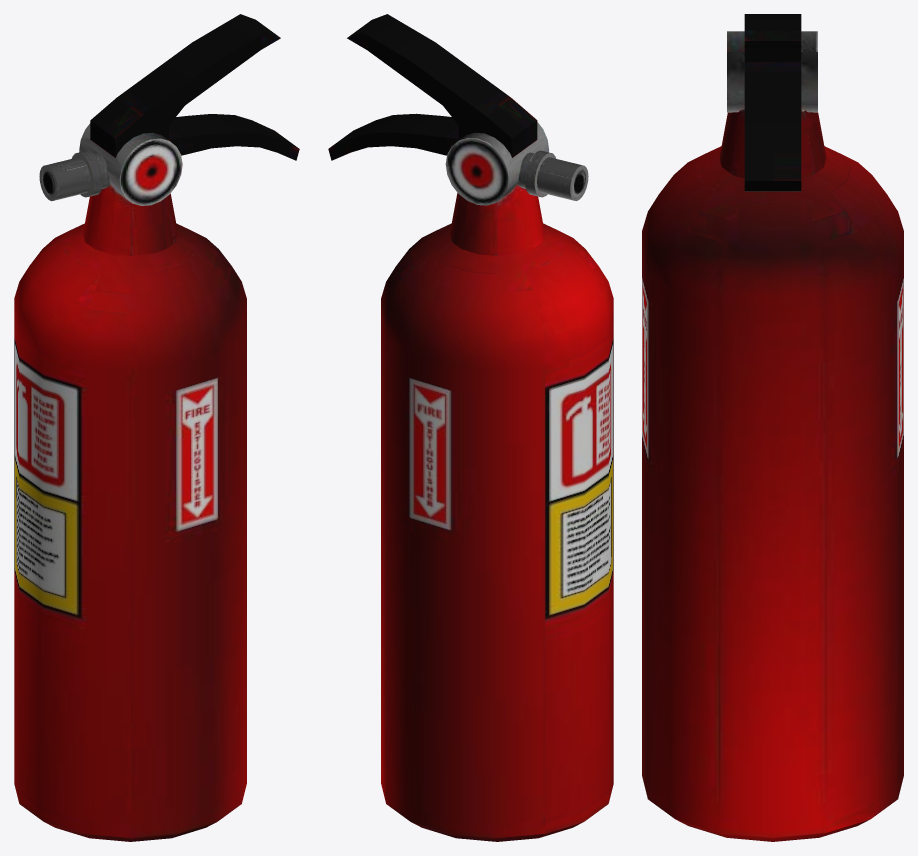
File: fireExtinguisher_080410.dae
The picture shows the model from 3 angles, left to right: view 1: azimuth 30°, elevation 25°; view 2: azimuth 150°, elevation 25°; view 3: azimuth 270°, elevation 25°; orthographic projection. The views are drawn at different scales.
Visible parts, largest first — view 1: polySurface4; view 2: polySurface4; view 3: polySurface4.
Boxes of the visible parts, x1,y1,x2,y2 form: polySurface4: (14,14,299,841); polySurface4: (328,14,613,841); polySurface4: (642,14,903,841).
Bounding box in the file's own units: 0.8695 × 2.42 × 0.6852.
